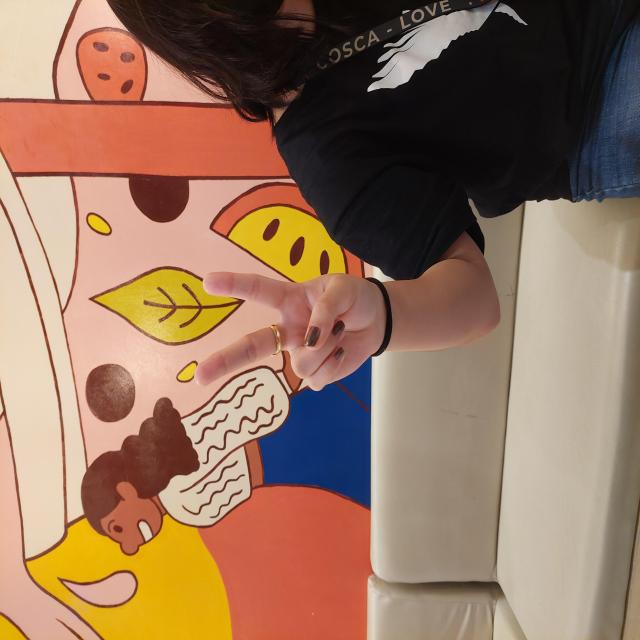V: (246, 192, 371, 385)
